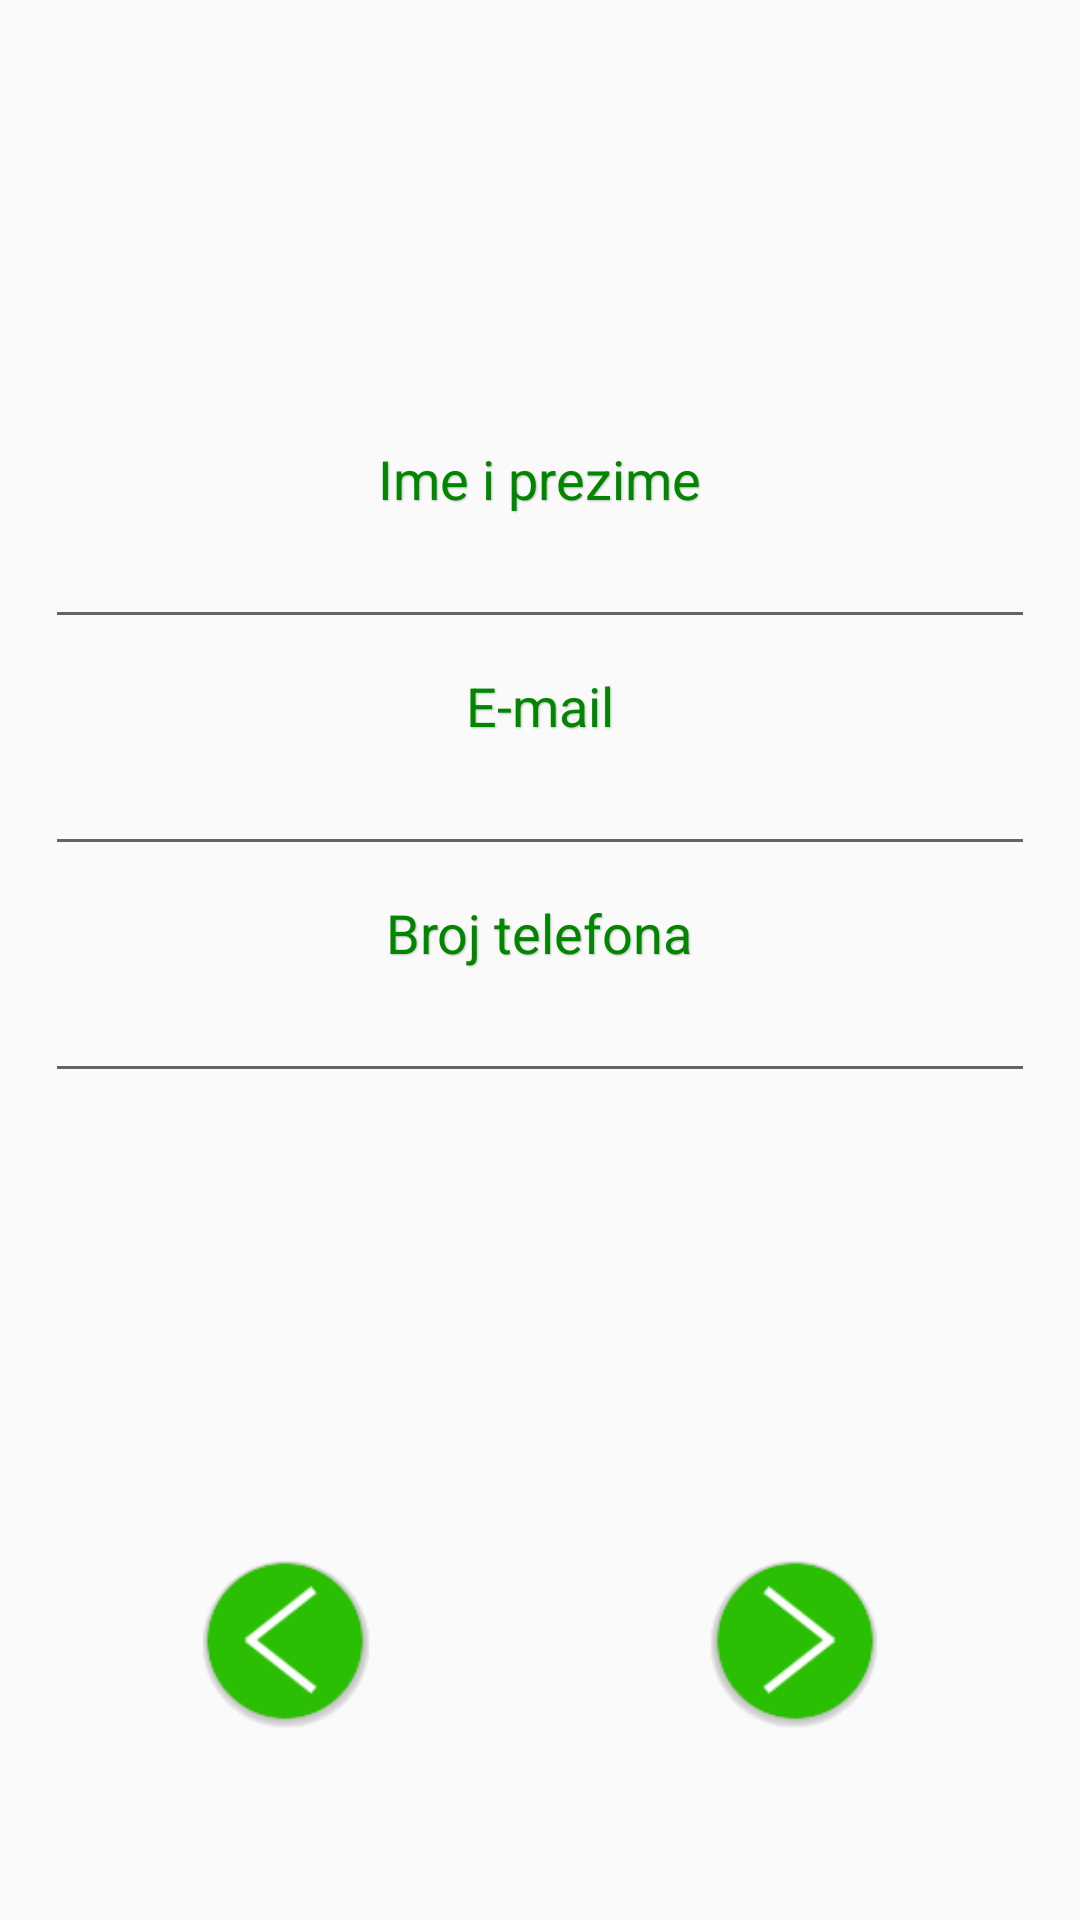

Screen size 1080x1920. Icon name, then its center in pixels as [x,y]:
arrow left: [286,1643]
arrow right: [794,1643]
